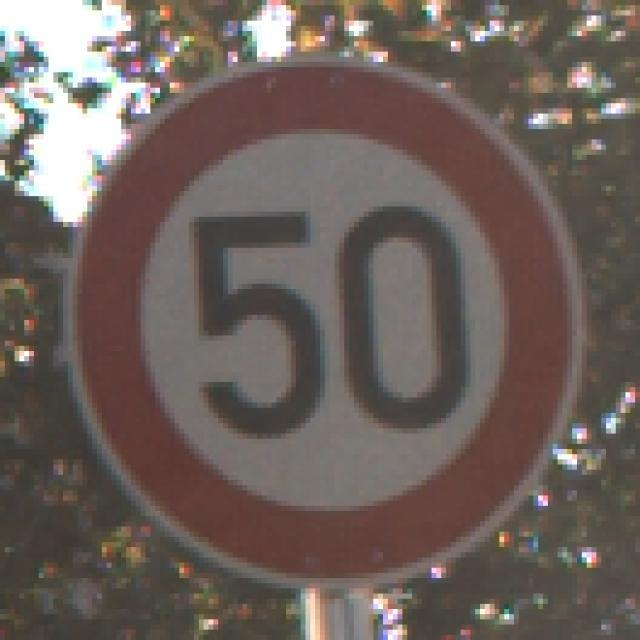speed limit 50: (76, 61, 577, 589)
